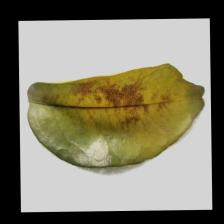black spot: (64, 78, 172, 129)
